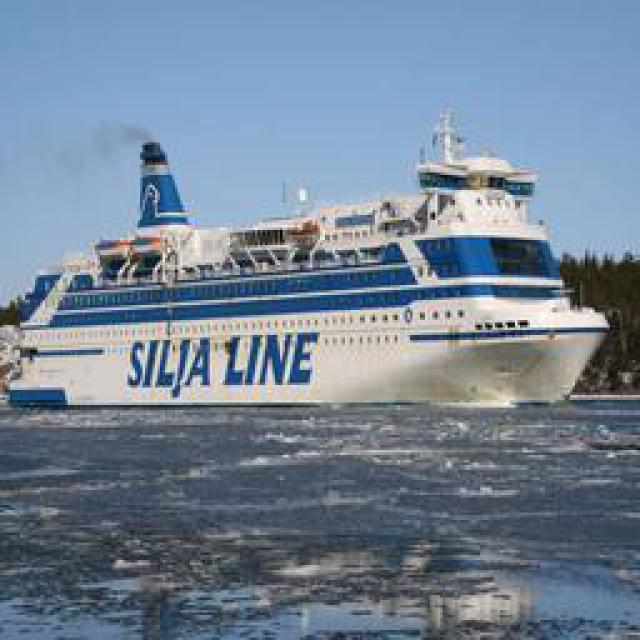Ship: (21, 111, 606, 409)
